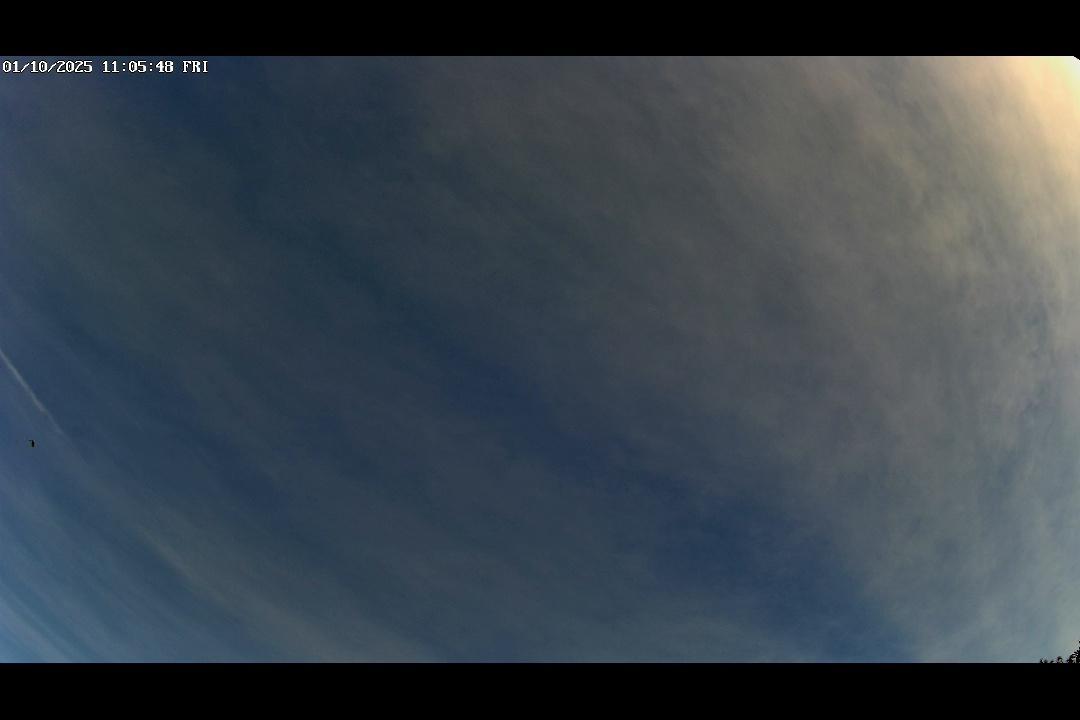WildLife: (14, 433, 49, 455)
